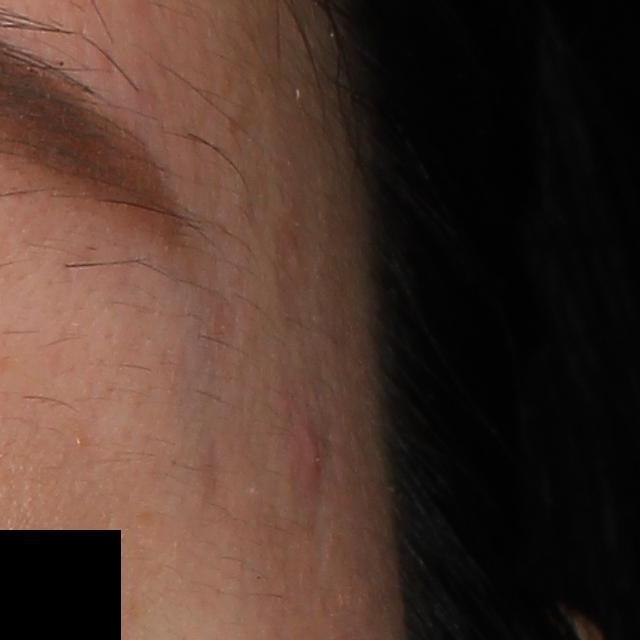papule: (300, 427, 324, 490)
